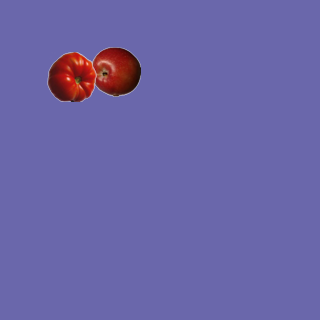Apple Braeburn: (90, 46, 140, 96)
Tomato 3: (46, 51, 96, 101)
